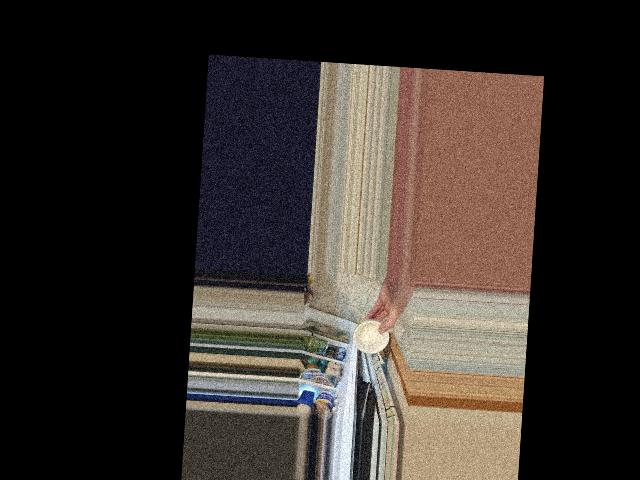cotage: (351, 319, 389, 357)
